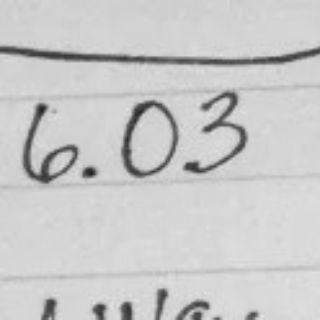.: (80, 164, 97, 180)
0: (119, 98, 180, 183)
3: (182, 88, 250, 177)
6: (20, 99, 79, 185)
